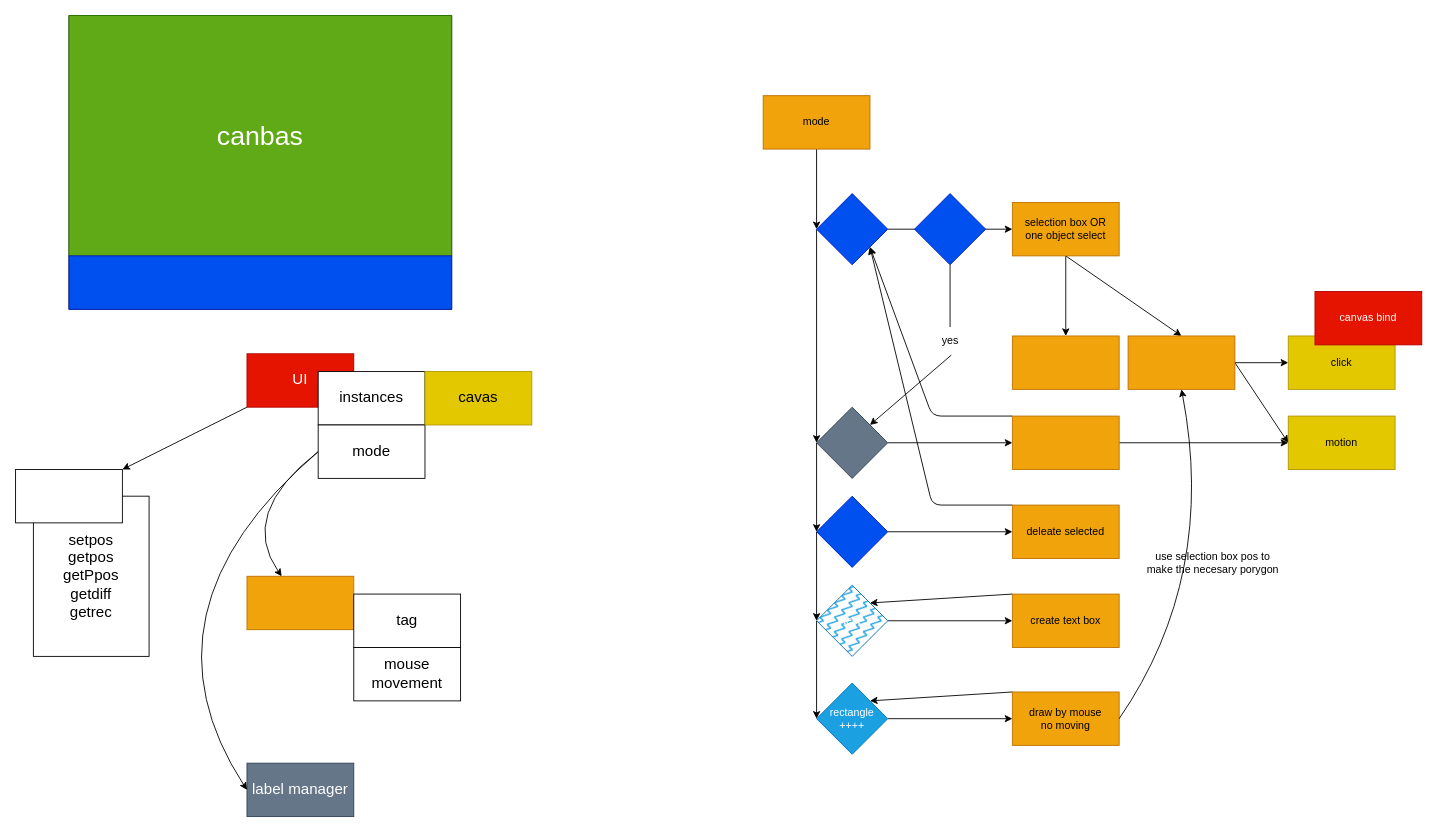
This 1437x832 diagram has some shape labels left out. Each missing label, with the centre of its shape:
"canvas manager" goes at point (300, 602).
"deleat" goes at point (852, 531).
"mouse" goes at point (68, 496).
"move" goes at point (852, 442).
"move selected" goes at point (1065, 442).
"on ui" goes at point (950, 229).
"selection box logics" goes at point (1065, 362).
"selection box UI" goes at point (1181, 362).
"slection" goes at point (852, 229).
"tool bar" goes at point (260, 282).
